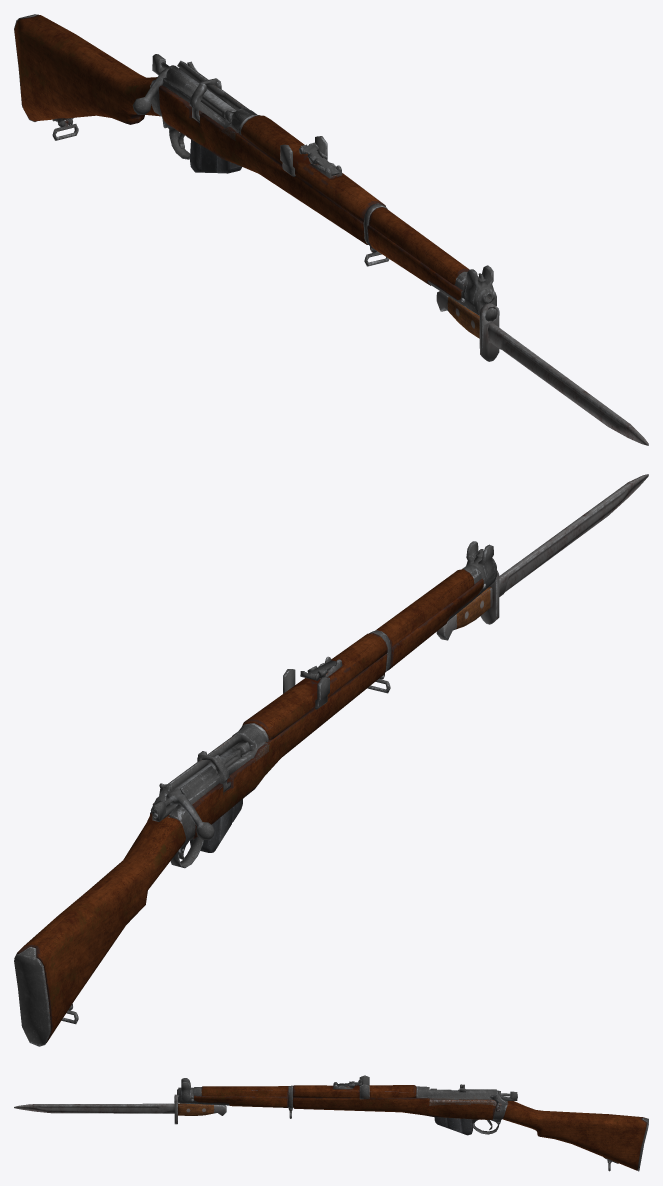
The model's file is gunLOD1 1.fbx.
The picture shows the model from 3 angles, top to bottom: view 1: azimuth 30°, elevation 25°; view 2: azimuth 150°, elevation 25°; view 3: azimuth 270°, elevation 25°; orthographic projection. The views are drawn at different scales.
Visible parts, largest first — view 1: GUNLOD0; view 2: GUNLOD0; view 3: GUNLOD0.
Part boxes in pixels (box(x1,y1,x2,y2)): GUNLOD0: box(14, 14, 648, 445); GUNLOD0: box(14, 474, 648, 1046); GUNLOD0: box(14, 1075, 648, 1171).
Size of what is drawn, in the model's own units: 111 by 316 by 2011.
